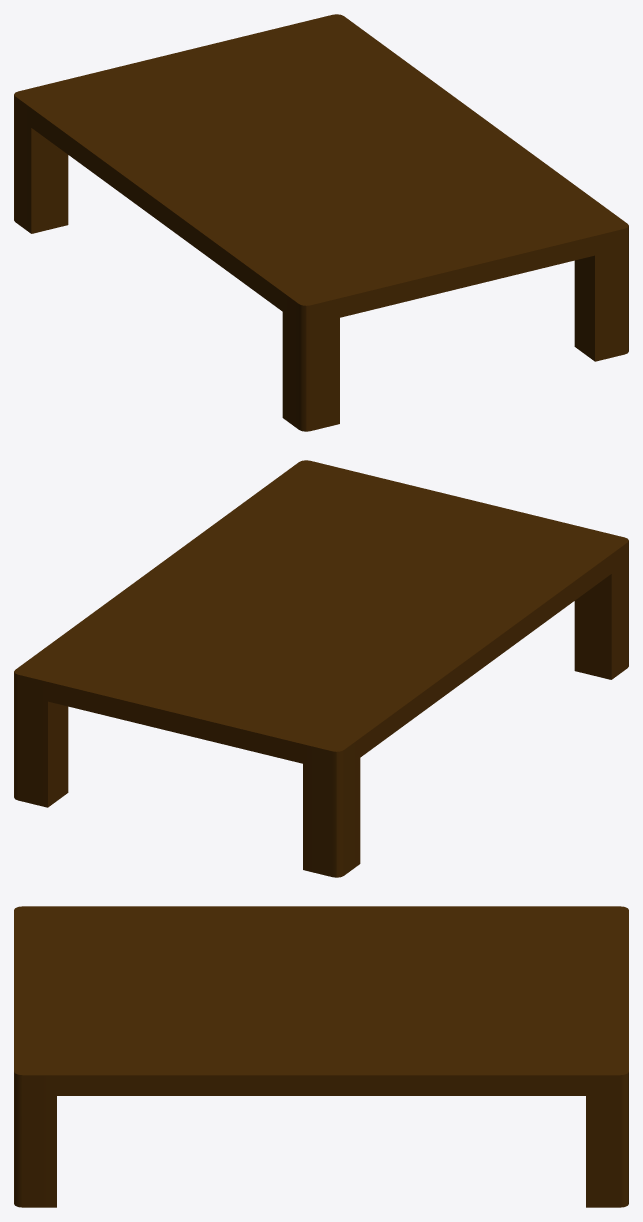
Rendered from Dining_Room_Table.fbx.
3 renders of one model, top to bottom at view 1: azimuth 30°, elevation 25°; view 2: azimuth 150°, elevation 25°; view 3: azimuth 270°, elevation 25°, orthographic. The views are drawn at different scales.
Parts seen in each view (by area): view 1: pCube1; view 2: pCube1; view 3: pCube1.
Part boxes in pixels (left/top/right/bottom): pCube1: left=14, top=14, right=628, bottom=431; pCube1: left=14, top=460, right=628, bottom=877; pCube1: left=14, top=906, right=628, bottom=1207.
Bounding box in the file's own units: 6.17 × 2.26 × 9.5.
